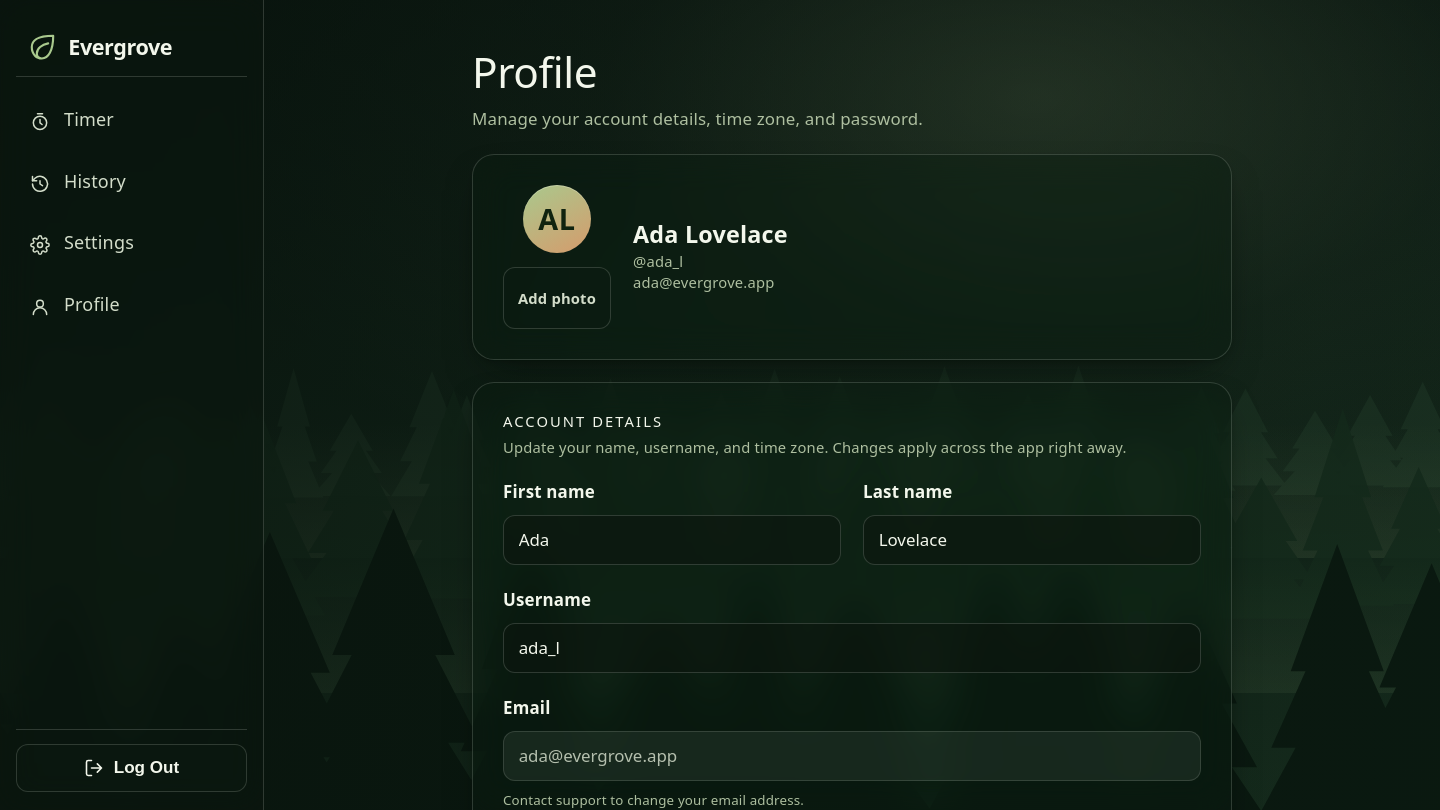
Scenario: Suite J3 — Editing and client-side validation › J3.2 — reports a bad value on blur and ties the message to the field
The width and height of the screenshot is (1440, 810).
Replace the text in the field labelled "First name" with "A" at (672, 540), box [519,516,825,564]
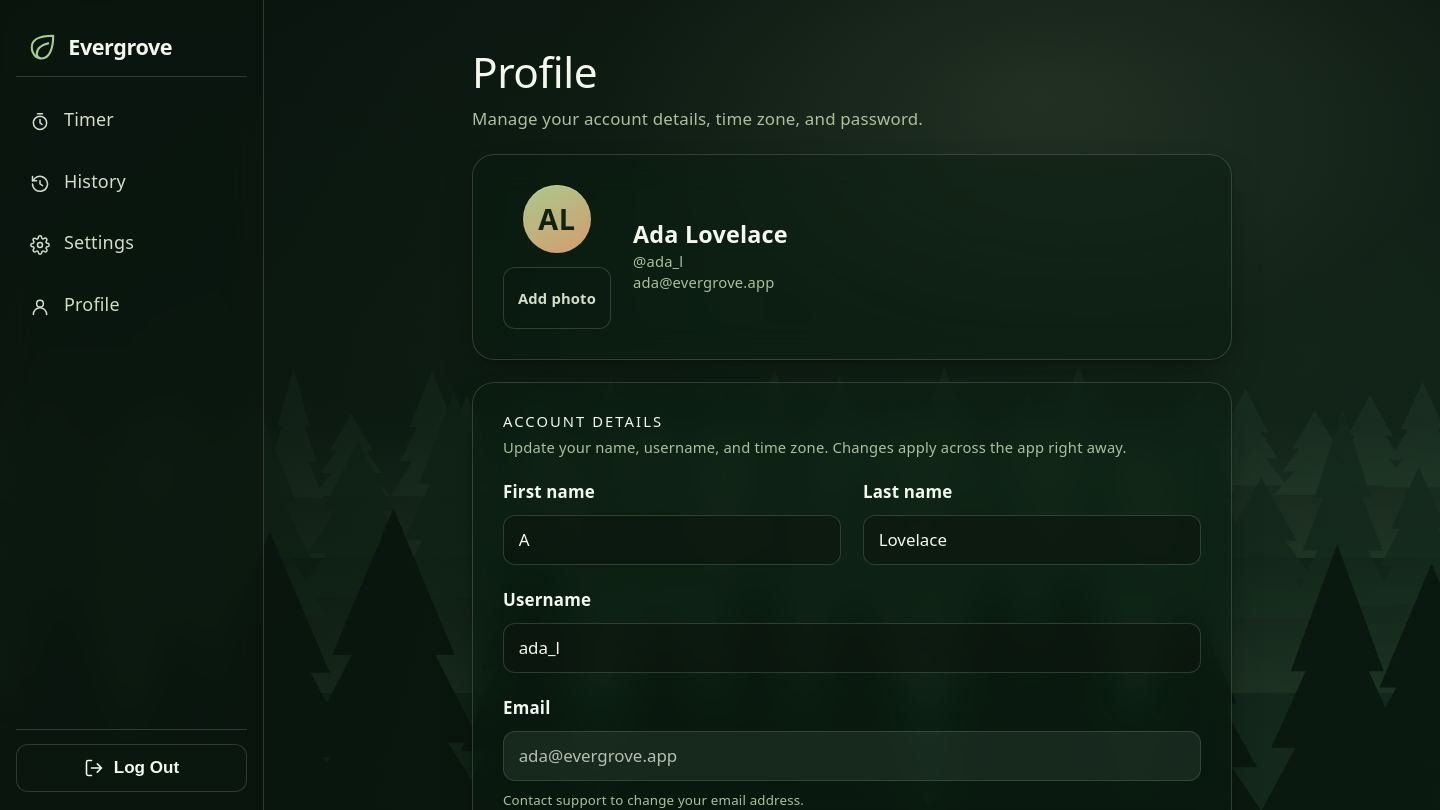
Leave the field labelled "First name", box [519,516,825,564]
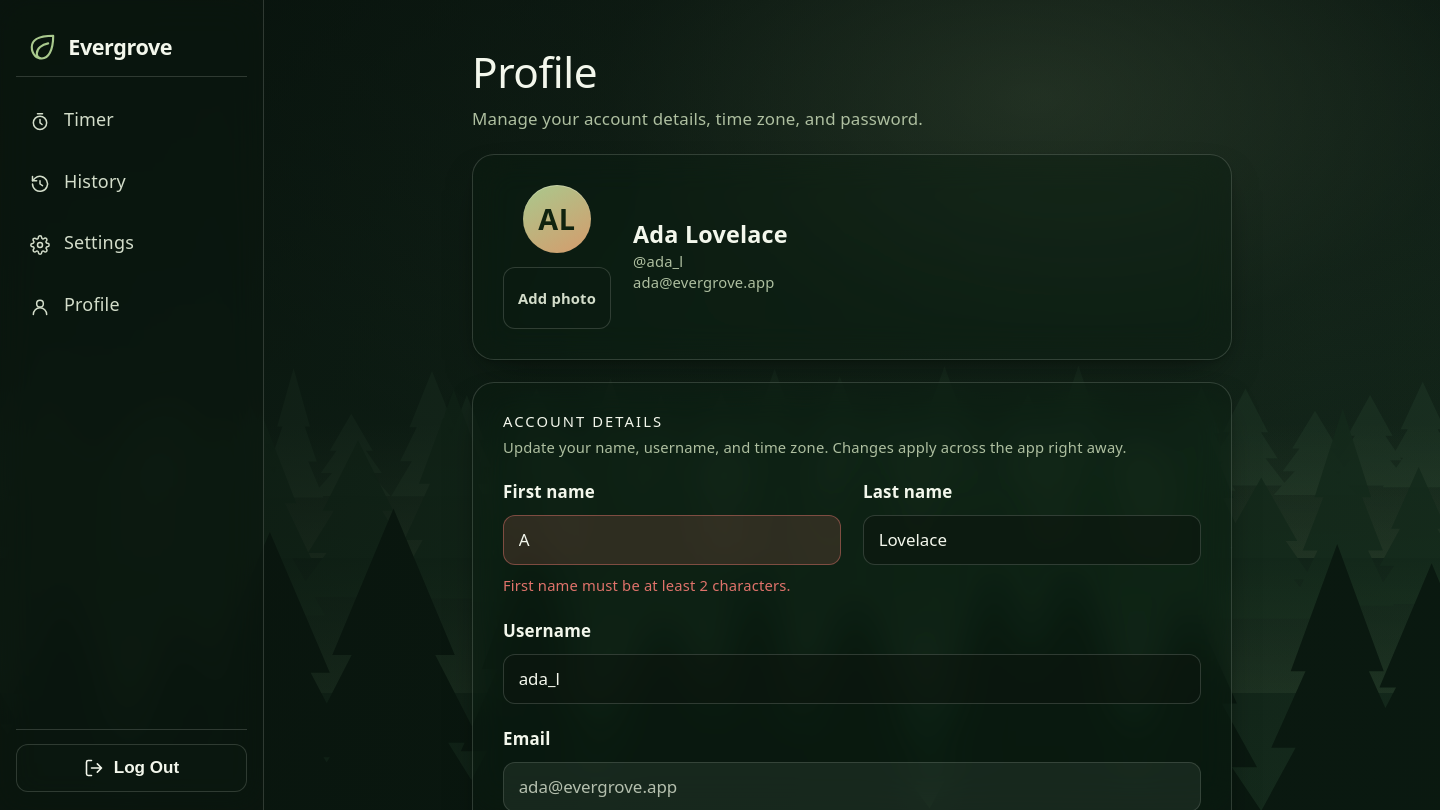
Check: the text "First name must be at least 2 characters." is shown, box [503,575,841,596]
